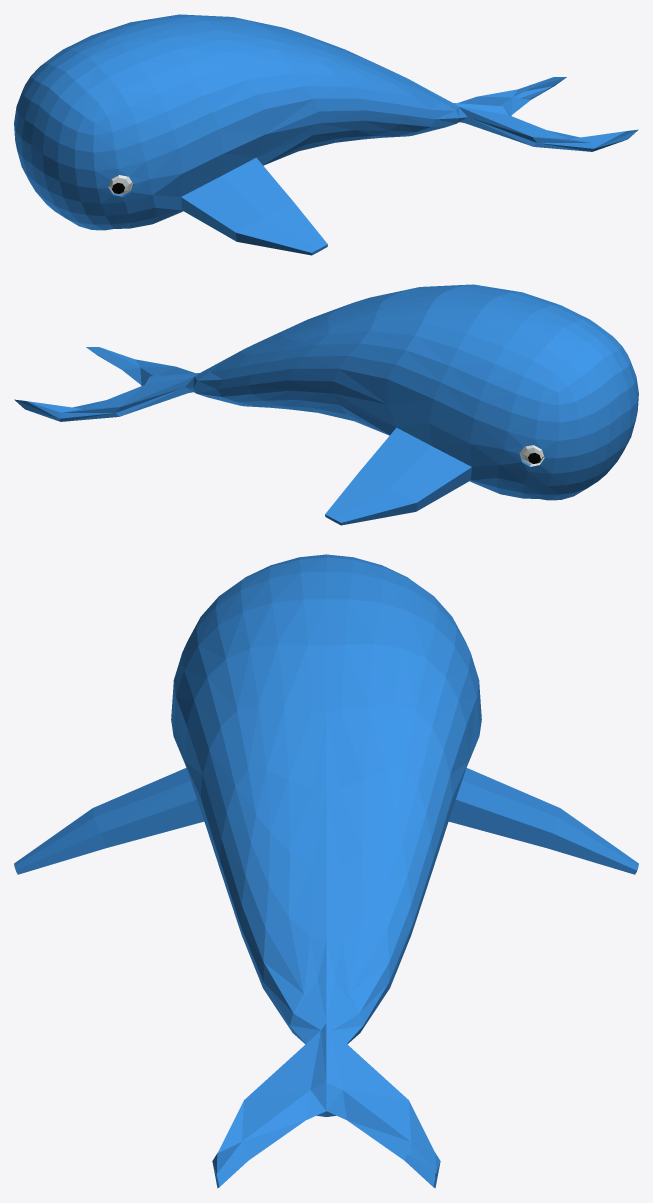
Rendered from WHALE.dae.
3 views of the same model, one above another, from view 1: azimuth 30°, elevation 25°; view 2: azimuth 150°, elevation 25°; view 3: azimuth 270°, elevation 25° (orthographic). The views are drawn at different scales.
Parts seen in each view (by area): view 1: Cube; view 2: Cube; view 3: Cube.
Boxes of the visible parts, x1,y1,x2,y2 form: Cube: (14, 14, 638, 255); Cube: (14, 284, 638, 525); Cube: (14, 554, 638, 1188).
Size of the model in its own units: 5.04 by 3.2 by 1.6.
